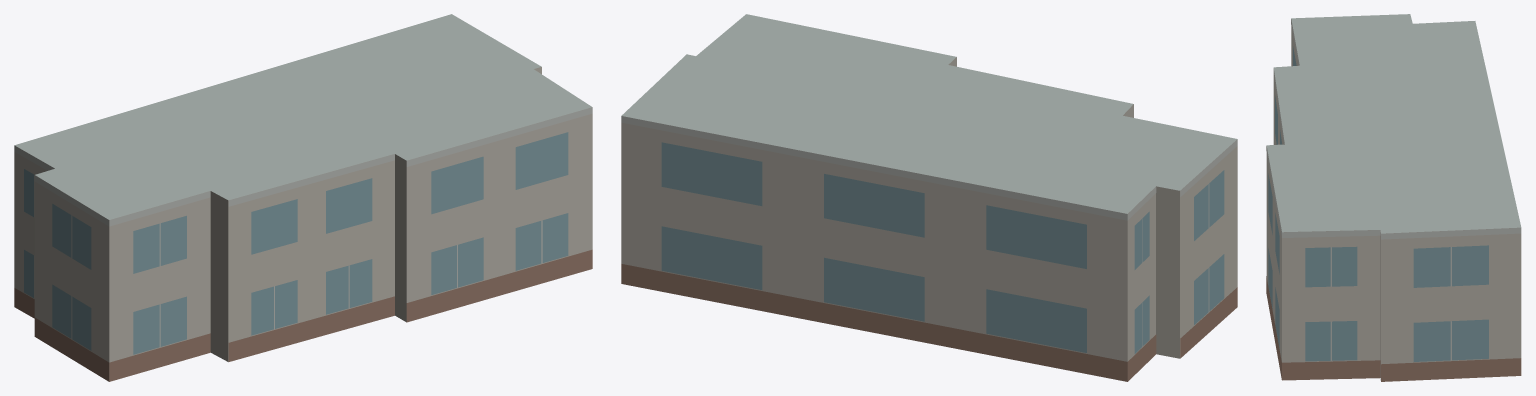
Rendered from survey-upis-32926671.glb.
The picture shows the model from 3 angles, left to right: view 1: azimuth 30°, elevation 25°; view 2: azimuth 150°, elevation 25°; view 3: azimuth 270°, elevation 25°; orthographic projection. The views are drawn at different scales.
Visible parts, largest first — view 1: survey-upis-32926671.tmp; view 2: survey-upis-32926671.tmp; view 3: survey-upis-32926671.tmp.
Boxes of the visible parts, x1,y1,x2,y2 form: survey-upis-32926671.tmp: [14, 14, 592, 381]; survey-upis-32926671.tmp: [621, 14, 1237, 381]; survey-upis-32926671.tmp: [1266, 14, 1521, 381].
Bounding box in the file's own units: 19.4 × 6.1 × 9.52.
